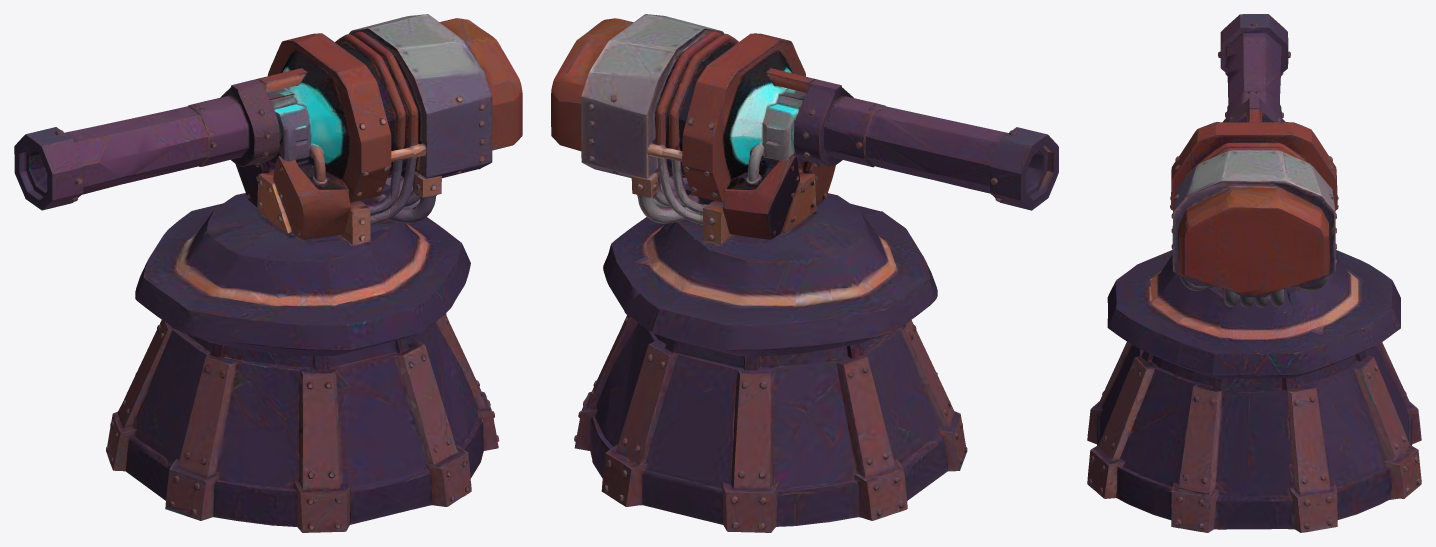
Rendered from tower.gltf.
The picture shows the model from 3 angles, left to right: view 1: azimuth 30°, elevation 25°; view 2: azimuth 150°, elevation 25°; view 3: azimuth 270°, elevation 25°; orthographic projection. The views are drawn at different scales.
Size of the model in its own units: 1.9 by 1.58 by 1.38.
1 material, 1 textured.
